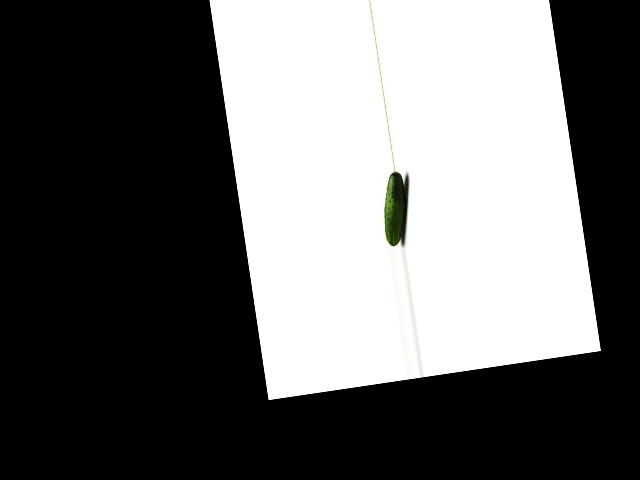cucumber: (376, 169, 413, 246)
